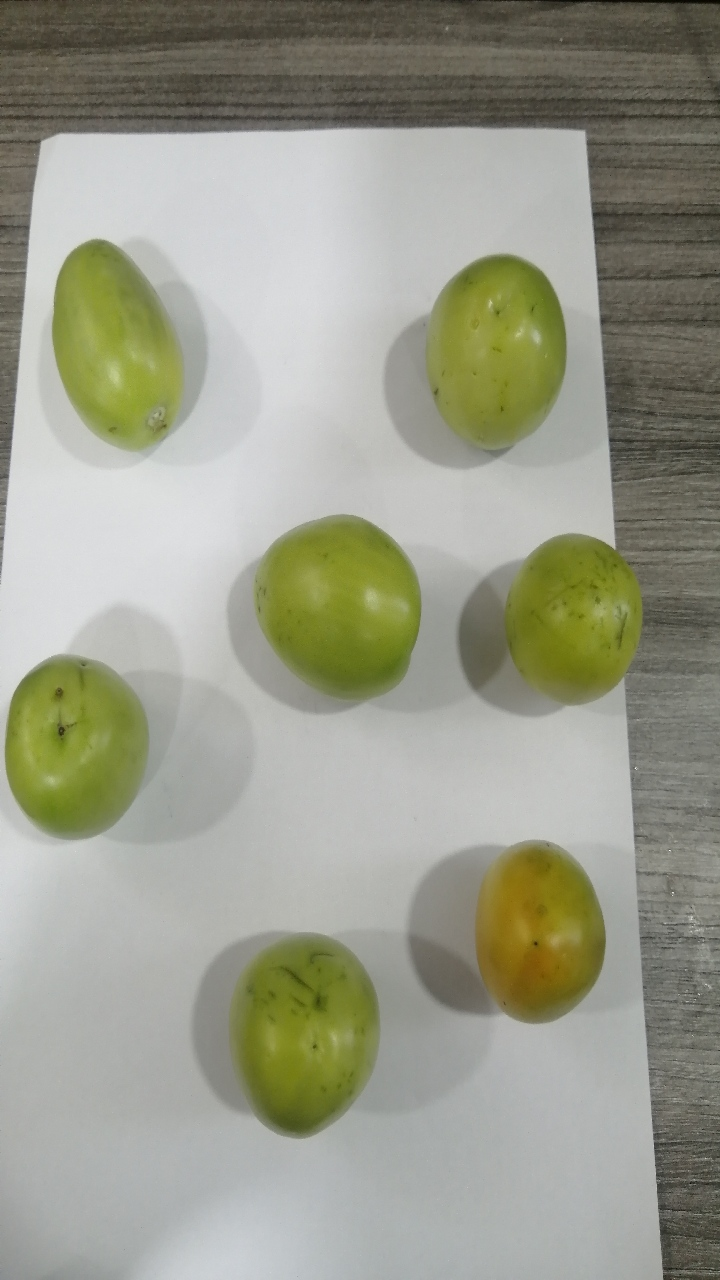tomateVerde: (232, 488, 438, 720), (224, 917, 403, 1151), (34, 223, 201, 465), (489, 512, 664, 731), (411, 239, 580, 463), (451, 823, 620, 1032), (1, 639, 163, 854)
